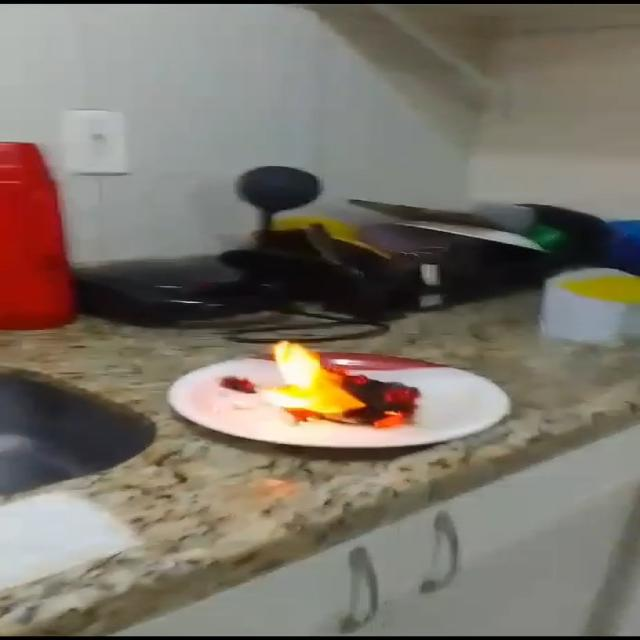fogo-ypXI: (257, 339, 422, 430)
